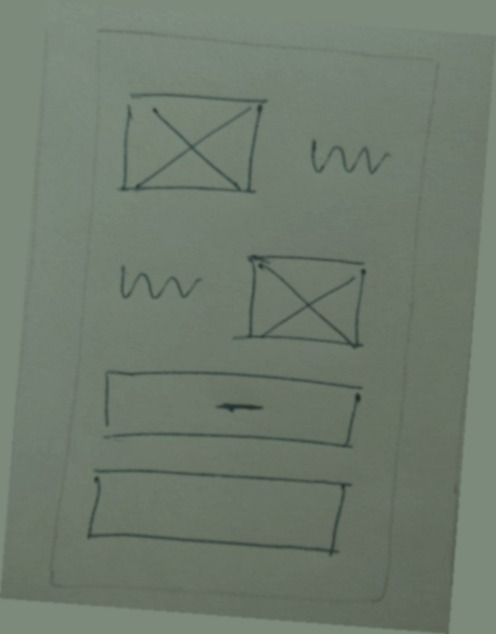button: (94, 357, 374, 464)
image: (108, 72, 276, 212), (228, 243, 375, 359)
text: (291, 121, 399, 196), (111, 254, 207, 314)
text_input: (75, 455, 363, 569)
